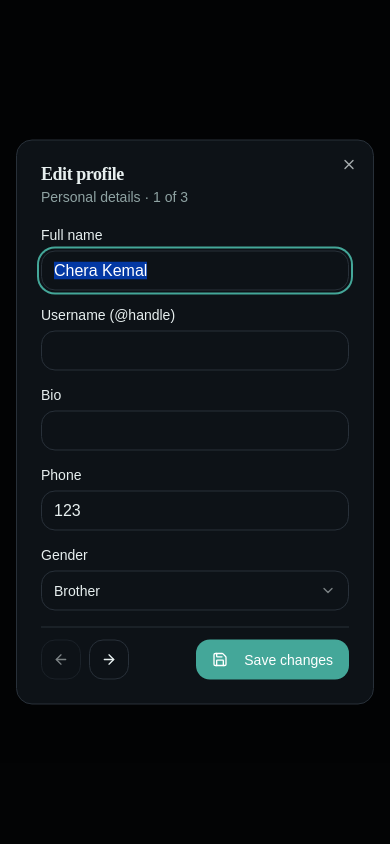
it: Profile editor persistence › updates the signed-in student's ID, then refreshes the displayed profile
Later steps or results of the test are not shown.
Expected: the field labelled "Full name" holds "Chera Kemal", [41, 250, 349, 290]
Click the button named "Next profile section" at (109, 660), box [89, 640, 129, 680]
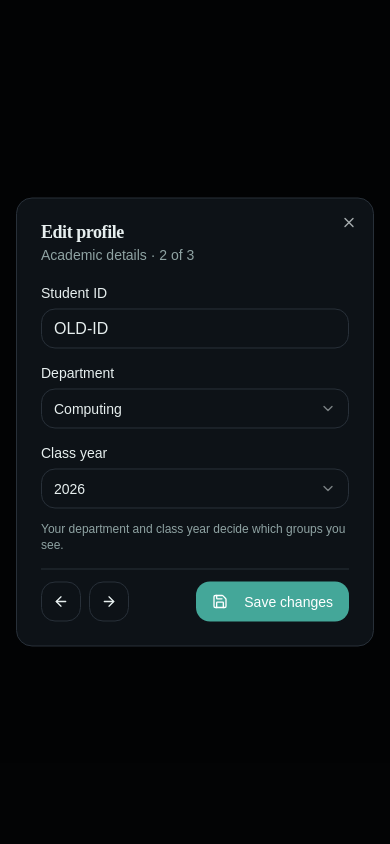
Result: the field labelled "Student ID" holds "OLD-ID" at [41, 308, 349, 348]
